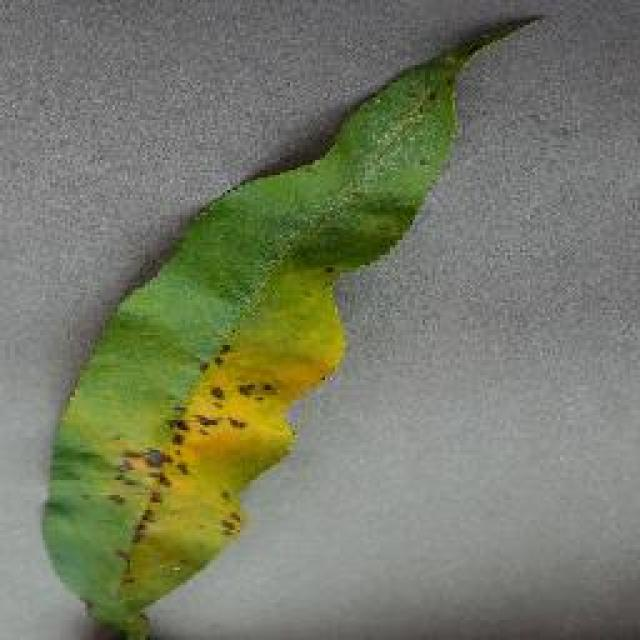Peach_Bacterial_Spot: (72, 345, 288, 595)
